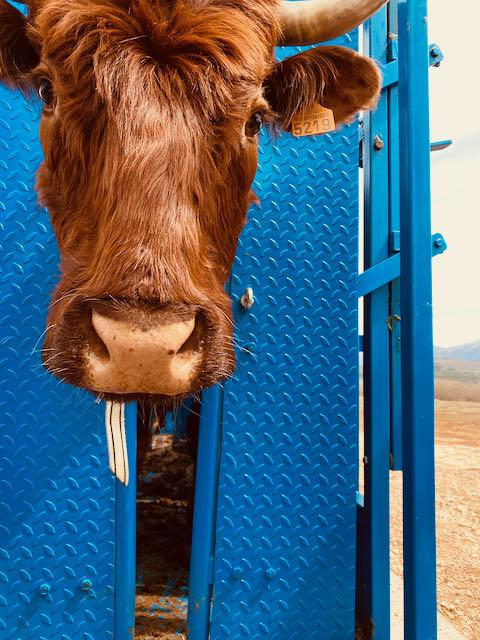muzzles: (38, 289, 240, 407)
